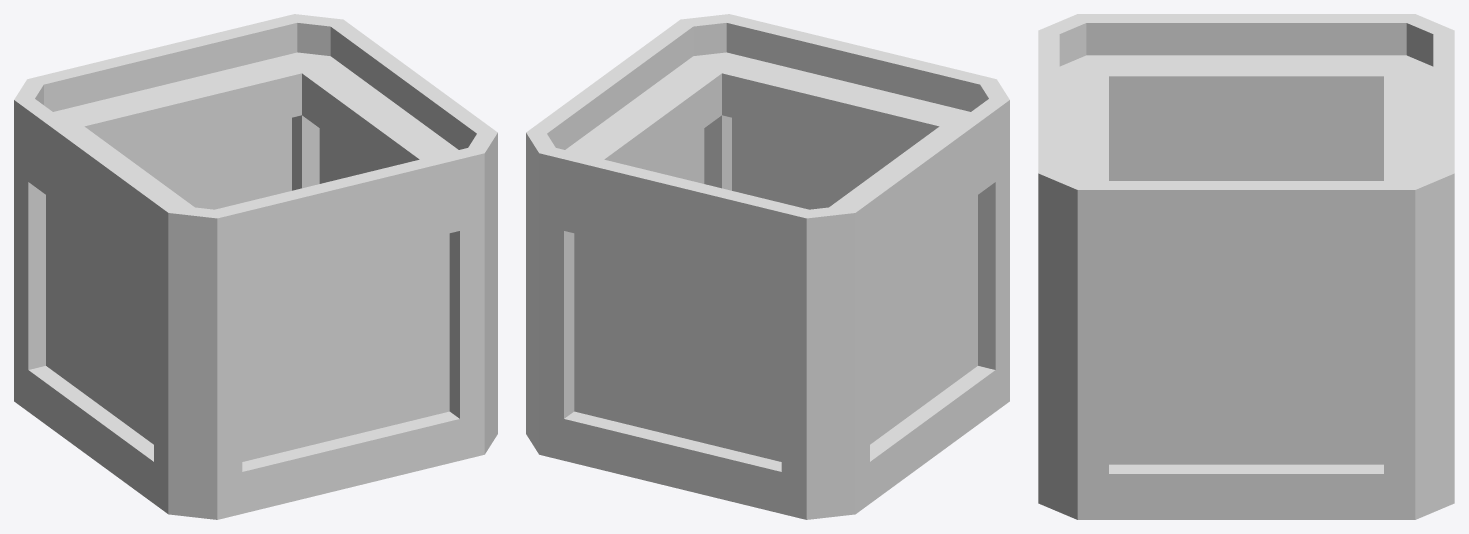
The model's file is Cont_Box.fbx.
3 renders of one model, left to right at view 1: azimuth 30°, elevation 25°; view 2: azimuth 150°, elevation 25°; view 3: azimuth 270°, elevation 25°, orthographic. The views are drawn at different scales.
Visible parts, largest first — view 1: Cont_Box; view 2: Cont_Box; view 3: Cont_Box.
Boxes of the visible parts, <box> form: Cont_Box: <box>14,14,497,519</box>; Cont_Box: <box>526,14,1009,519</box>; Cont_Box: <box>1038,14,1454,519</box>.
Bounding box in the file's own units: 0.9186 × 0.8034 × 0.9186.
